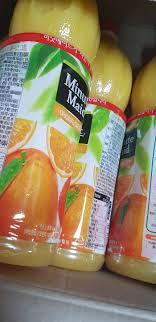minutemaid_org_orange: (0, 0, 103, 274)
